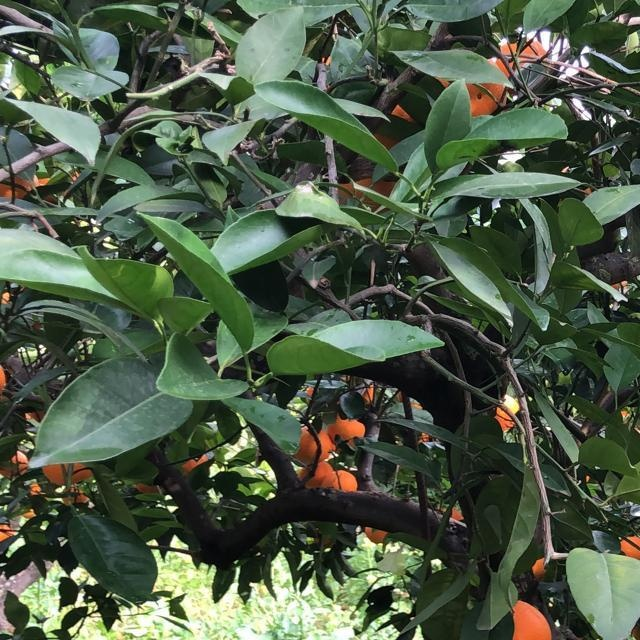orange: (428, 48, 512, 122), (470, 593, 552, 640), (499, 26, 553, 84), (290, 423, 336, 461), (40, 456, 90, 488), (490, 391, 524, 435), (13, 479, 49, 519), (298, 458, 332, 492), (325, 466, 357, 498), (615, 528, 640, 566), (362, 514, 390, 544), (333, 415, 365, 441), (0, 448, 26, 480), (122, 481, 160, 501), (0, 515, 16, 545), (69, 492, 85, 504), (639, 557, 640, 591)
